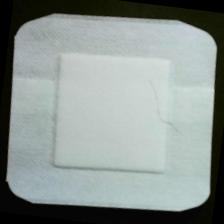Dressing: (1, 1, 224, 224)
F_Body: (138, 77, 193, 139)
